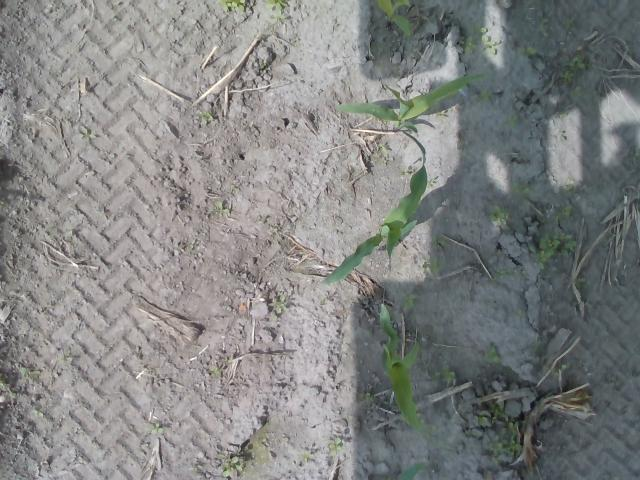Maize: (318, 130, 428, 286), (334, 72, 489, 136), (380, 302, 424, 432), (377, 0, 412, 36), (385, 460, 426, 480)
Weeds: (474, 400, 524, 464), (527, 232, 575, 274), (462, 22, 499, 56), (560, 54, 594, 83), (218, 452, 242, 480), (563, 176, 595, 194), (486, 203, 512, 225), (479, 345, 500, 364), (264, 0, 288, 16), (432, 366, 454, 383), (422, 256, 442, 274), (269, 296, 288, 314), (218, 0, 245, 12), (556, 207, 574, 224), (326, 438, 343, 456), (77, 127, 96, 143), (514, 181, 534, 194), (479, 88, 497, 102), (429, 235, 448, 248), (401, 292, 416, 308), (504, 114, 520, 128), (569, 85, 585, 98), (519, 46, 539, 56), (558, 362, 578, 372), (562, 16, 574, 30), (149, 423, 164, 434), (217, 199, 229, 212), (436, 108, 448, 119), (496, 269, 510, 278), (358, 391, 372, 400), (576, 278, 586, 290), (200, 112, 215, 120), (30, 410, 45, 418), (19, 368, 31, 377), (426, 178, 436, 188), (211, 367, 222, 376), (302, 452, 310, 462), (0, 381, 5, 388)
